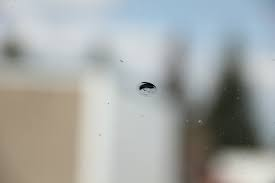bullseye: (128, 74, 169, 103), (116, 53, 131, 66), (194, 117, 207, 129)
